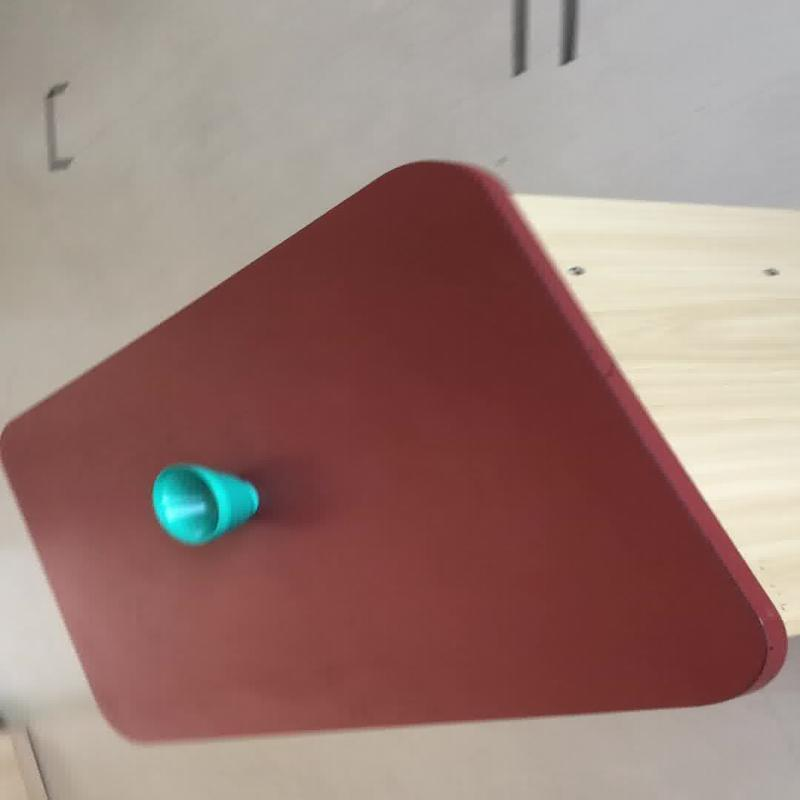bowl: (1, 158, 789, 742), (149, 462, 260, 546)
